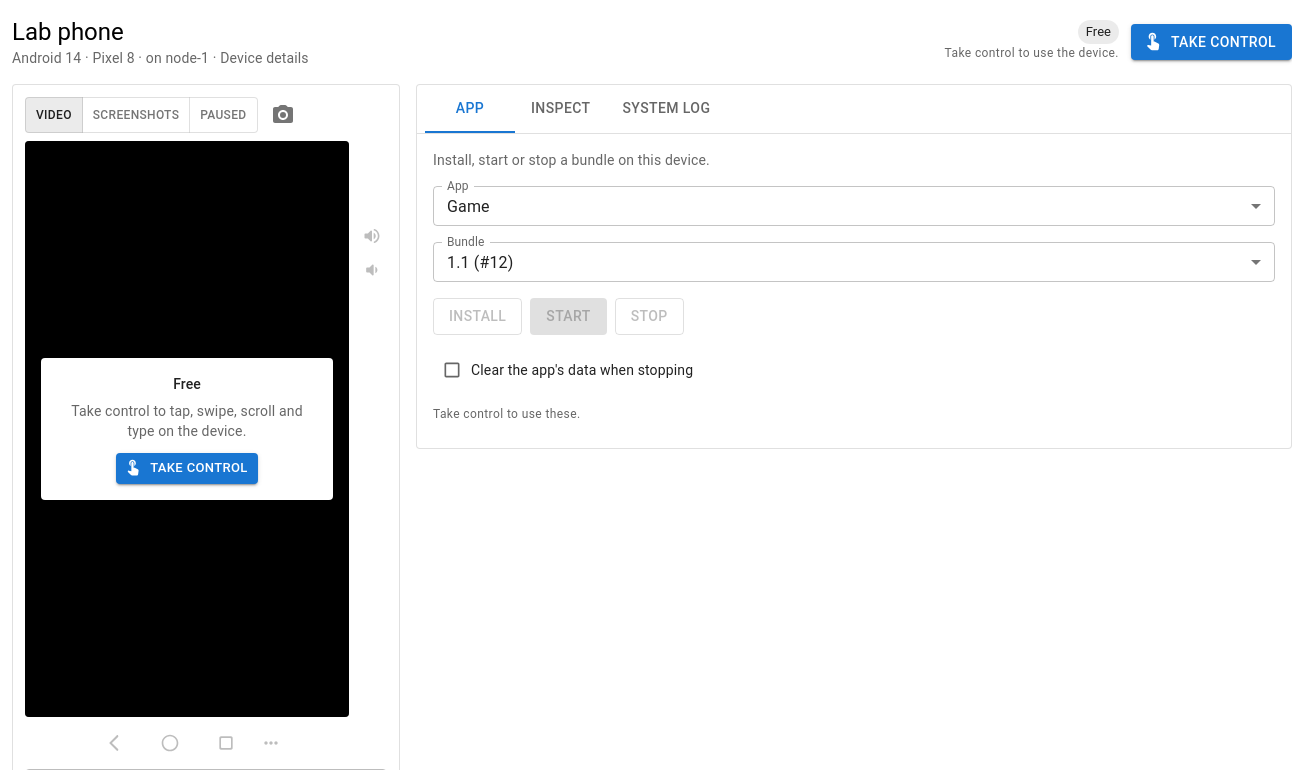
Test: the control page: live video › says when touch, keys and scrolling go straight through the video
Expected: the heading "Lab phone" is shown, [12,18,124,46]
Click the button "Take control" next to "Take control to use the device.": click(1211, 42) [1131,24,1292,60]
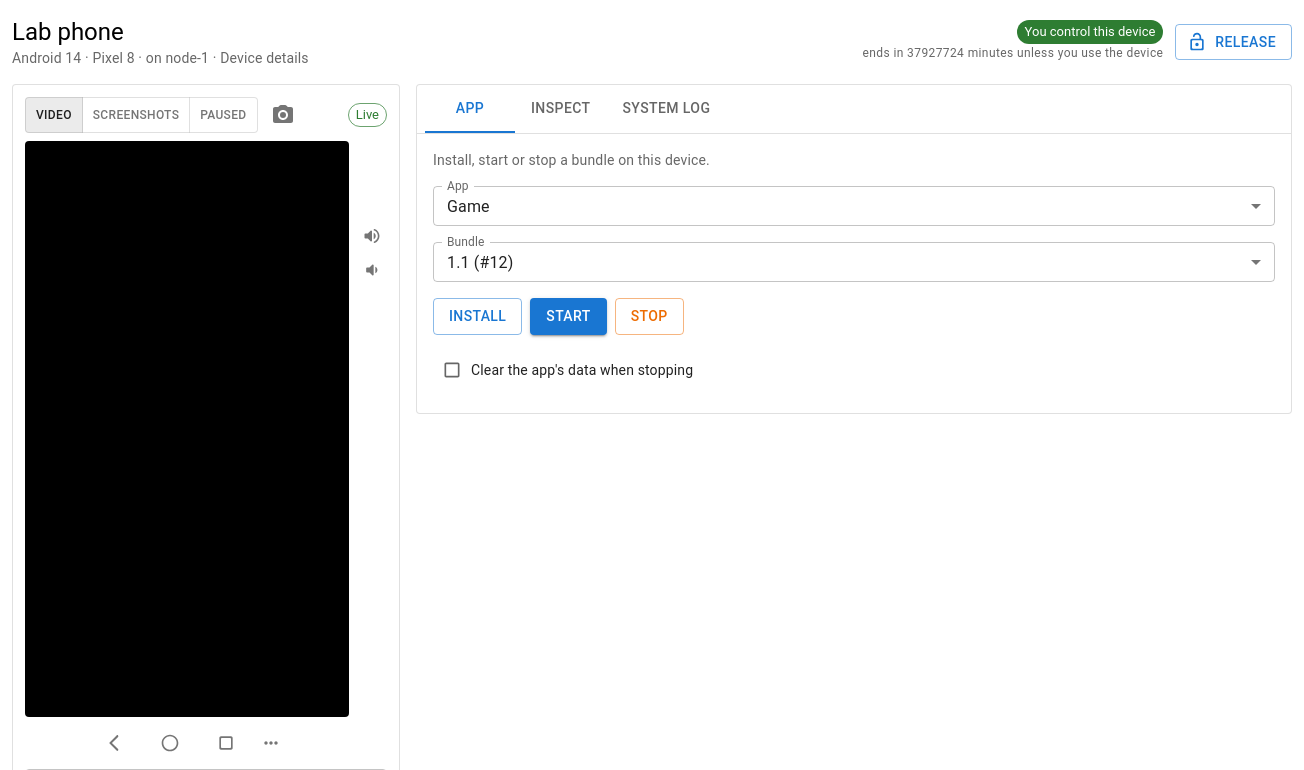
Result: the text "You control this device" is shown at [1017,22,1163,42]
Result: the text "Live" is shown at [356,107,379,122]
